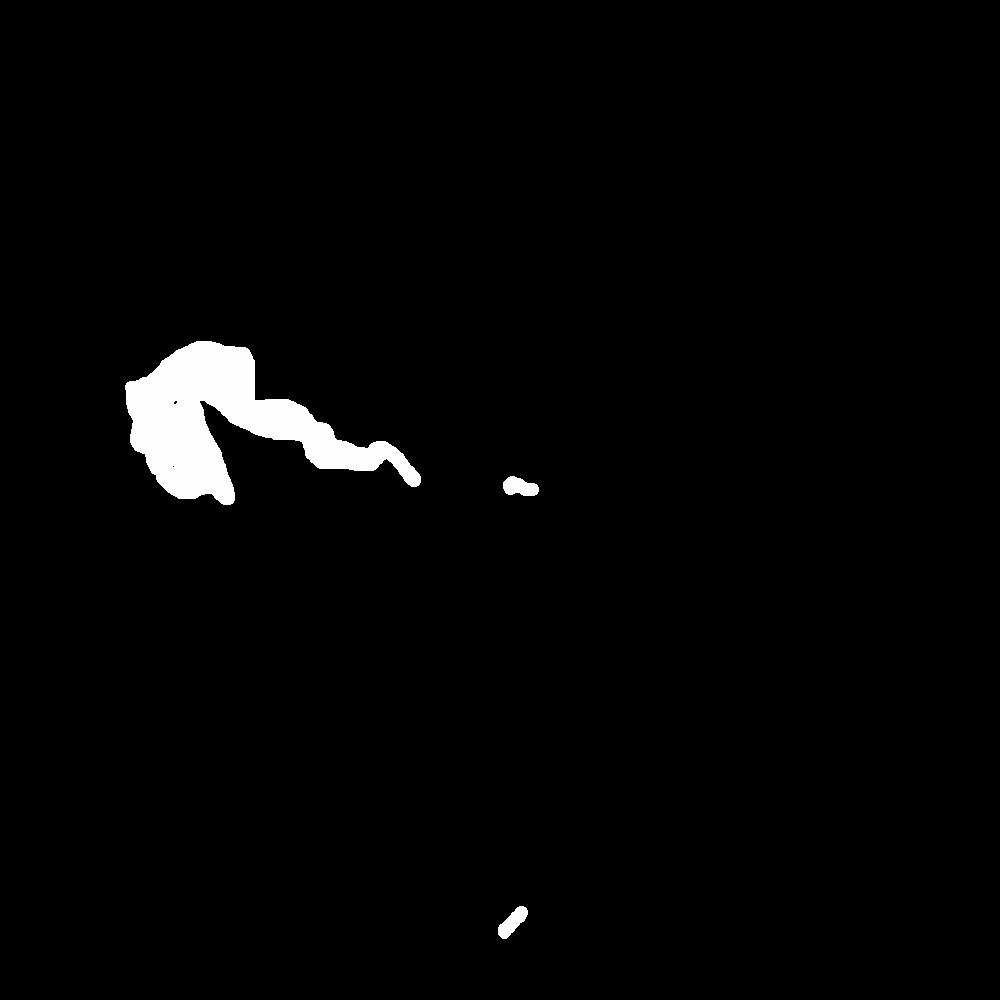illegal: (127, 343, 424, 517), (500, 480, 540, 504)
